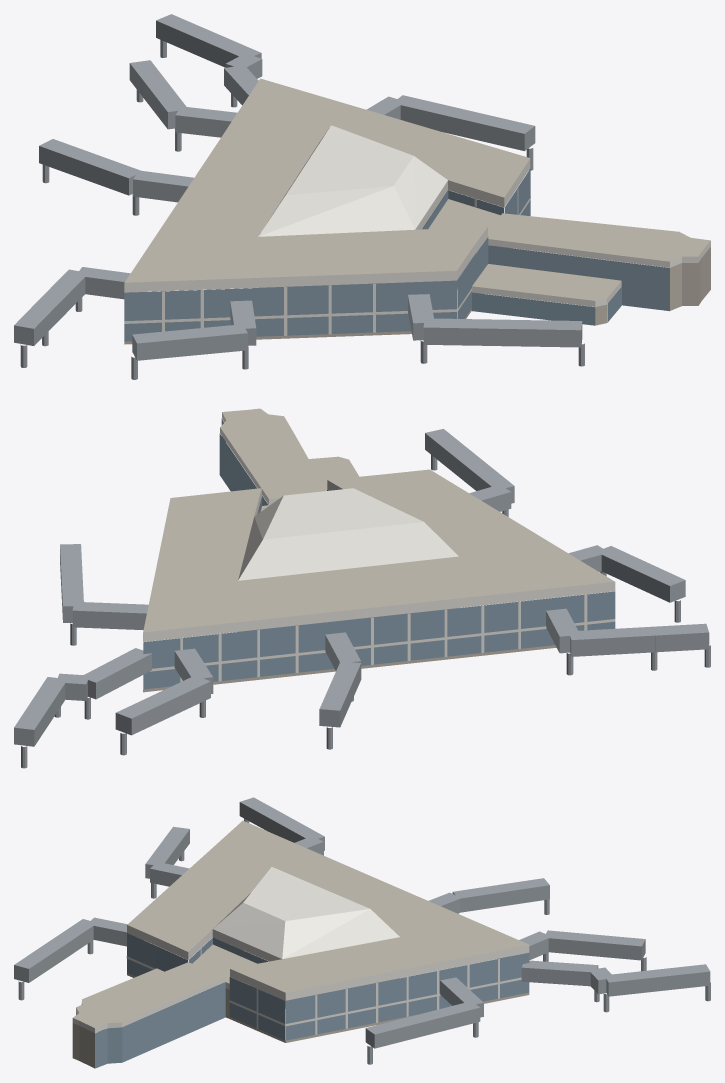
Rendered from paris-cdg-terminal-1-satellite-x.detail.glb.
3 renders of one model, top to bottom at view 1: azimuth 30°, elevation 25°; view 2: azimuth 150°, elevation 25°; view 3: azimuth 270°, elevation 25°, orthographic. The views are drawn at different scales.
Visible parts, largest first — view 1: Paris-CDG Terminal 1 Satellite X; view 2: Paris-CDG Terminal 1 Satellite X; view 3: Paris-CDG Terminal 1 Satellite X.
Part boxes in pixels (x1=…): Paris-CDG Terminal 1 Satellite X: x1=14, y1=14, x2=710, y2=379; Paris-CDG Terminal 1 Satellite X: x1=14, y1=408, x2=710, y2=768; Paris-CDG Terminal 1 Satellite X: x1=14, y1=797, x2=710, y2=1068.
Bounding box in the file's own units: 102 × 15 × 125.
